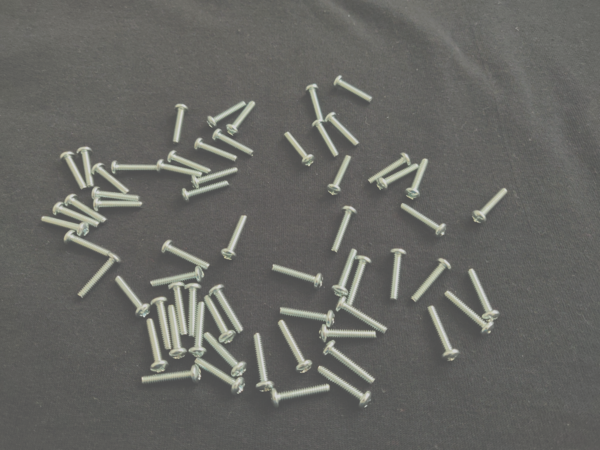longscrew: (315, 365, 373, 410), (322, 339, 377, 385), (444, 290, 496, 337), (76, 252, 123, 300), (423, 305, 462, 362), (335, 296, 391, 335), (203, 331, 248, 378), (277, 319, 314, 375), (193, 358, 247, 396), (410, 258, 452, 304), (208, 284, 245, 336), (468, 267, 502, 323), (401, 202, 449, 239), (203, 294, 237, 346), (114, 275, 152, 319), (161, 239, 211, 272), (270, 383, 331, 410), (142, 318, 170, 373), (271, 263, 325, 291), (368, 152, 412, 186), (140, 364, 202, 388), (331, 248, 360, 299), (63, 230, 113, 259), (64, 193, 110, 224), (346, 255, 373, 307), (253, 332, 276, 393), (150, 265, 206, 290), (221, 214, 250, 262), (331, 205, 359, 254), (52, 201, 102, 228), (91, 162, 131, 195), (325, 111, 361, 147), (377, 163, 420, 193), (474, 188, 509, 224), (318, 323, 378, 344), (279, 307, 336, 329), (188, 300, 209, 359), (181, 179, 230, 204), (168, 302, 189, 360), (212, 128, 255, 156), (311, 119, 341, 159), (333, 75, 374, 104), (206, 100, 247, 129), (282, 131, 315, 167), (150, 296, 172, 350), (225, 100, 257, 137), (191, 166, 239, 190), (193, 137, 239, 162), (327, 154, 353, 197), (60, 151, 88, 190), (167, 150, 212, 174), (41, 216, 90, 238), (405, 157, 430, 200), (184, 282, 203, 338), (169, 281, 188, 337), (388, 248, 408, 301), (156, 159, 203, 179), (93, 196, 145, 213), (305, 82, 326, 124), (77, 146, 96, 189), (111, 160, 159, 177), (91, 186, 141, 202), (171, 103, 189, 146)
